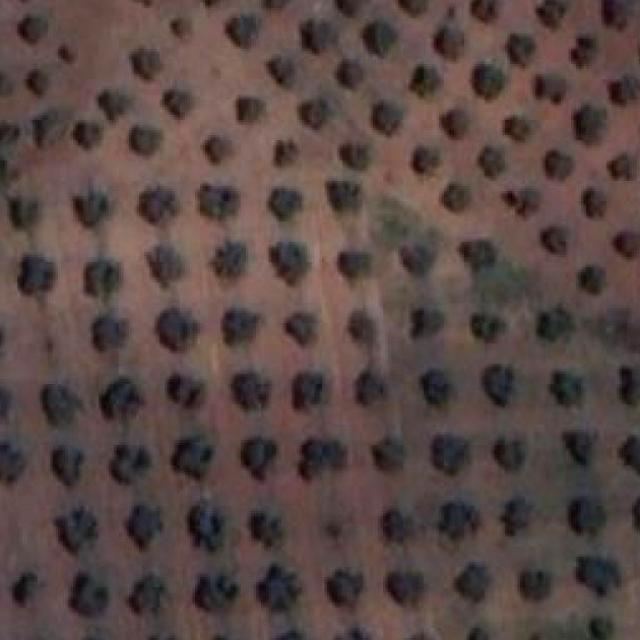Tree: (190, 572, 241, 626), (269, 240, 320, 292), (259, 566, 307, 616), (53, 500, 97, 550), (134, 572, 177, 622), (571, 555, 619, 599), (433, 503, 488, 541), (4, 562, 44, 614), (124, 506, 169, 552), (322, 567, 366, 614), (549, 361, 596, 405), (302, 430, 346, 476), (573, 105, 617, 150), (383, 567, 433, 606), (187, 501, 232, 543), (78, 257, 123, 298), (111, 442, 152, 487), (68, 570, 108, 616), (17, 255, 57, 300), (233, 371, 277, 411), (75, 184, 115, 228), (35, 105, 75, 148), (535, 64, 578, 104), (101, 376, 141, 419), (563, 428, 601, 473), (129, 112, 171, 152), (452, 232, 501, 266), (429, 433, 474, 470), (172, 435, 214, 474), (353, 361, 392, 403), (38, 381, 76, 424), (198, 181, 244, 216), (327, 176, 370, 213), (535, 303, 576, 341), (493, 432, 530, 474), (48, 440, 85, 482), (454, 562, 493, 601), (523, 564, 561, 604), (243, 511, 283, 549), (297, 13, 337, 51), (244, 430, 280, 472), (403, 143, 447, 177), (141, 184, 181, 221), (91, 312, 128, 352), (606, 68, 640, 111), (538, 222, 575, 261), (371, 435, 407, 475), (502, 181, 543, 216), (417, 371, 451, 413), (0, 437, 28, 488), (332, 245, 376, 277), (162, 308, 200, 345), (403, 67, 441, 104), (574, 260, 611, 298), (144, 244, 180, 283), (133, 41, 168, 81), (258, 57, 298, 91), (540, 150, 577, 186), (439, 102, 473, 141), (505, 31, 537, 72), (432, 16, 466, 54), (500, 498, 534, 536), (434, 184, 474, 216), (505, 115, 541, 150), (474, 64, 508, 101), (576, 181, 610, 218), (20, 18, 58, 51), (287, 313, 326, 345), (483, 364, 513, 405), (264, 186, 300, 220), (20, 64, 56, 98), (616, 358, 640, 409), (616, 434, 640, 485), (224, 306, 261, 339), (371, 103, 408, 136), (569, 494, 606, 527), (470, 311, 508, 343), (477, 145, 510, 181), (398, 242, 436, 273), (170, 372, 205, 405), (346, 311, 381, 344), (611, 223, 640, 262), (335, 54, 365, 91), (292, 369, 325, 400), (229, 11, 256, 48), (596, 0, 632, 27), (411, 311, 443, 341), (236, 87, 269, 116), (335, 143, 369, 171), (609, 150, 637, 184), (368, 18, 398, 49), (213, 245, 246, 273), (300, 94, 326, 129), (198, 133, 228, 163), (569, 34, 600, 63), (99, 87, 129, 114), (276, 138, 304, 166), (378, 506, 404, 534), (12, 196, 43, 219), (0, 117, 19, 154), (73, 118, 101, 143), (623, 492, 640, 533), (535, 0, 564, 24), (165, 84, 191, 109), (168, 6, 190, 34), (322, 519, 347, 543), (472, 0, 501, 20), (337, 628, 381, 640), (466, 628, 506, 640), (586, 625, 617, 640), (205, 631, 254, 640), (58, 42, 80, 62), (337, 0, 369, 12), (143, 631, 185, 640), (271, 631, 312, 640), (405, 0, 429, 14), (76, 633, 112, 640)
